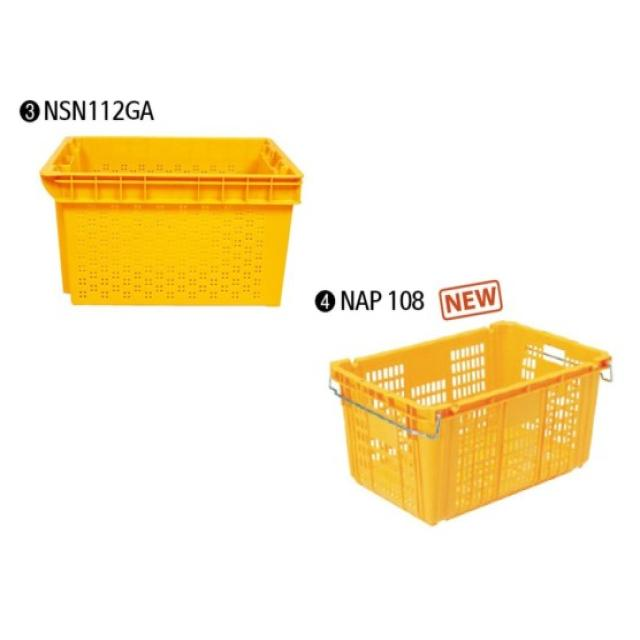basket: (40, 136, 303, 307)
